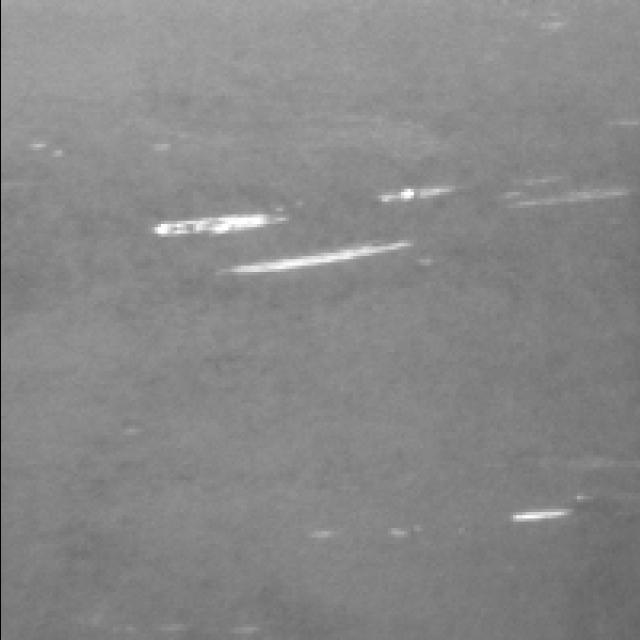scratches: (490, 162, 620, 226), (227, 242, 413, 278), (149, 205, 303, 242), (374, 174, 470, 218), (502, 502, 578, 532), (16, 126, 70, 168)
